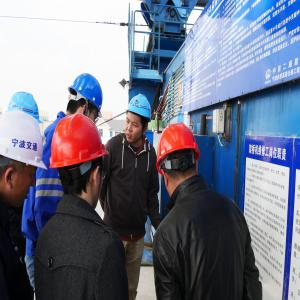blue: (66, 73, 105, 127), (125, 95, 152, 145)
red: (53, 113, 106, 208), (158, 124, 202, 196)
white: (2, 110, 44, 205)
